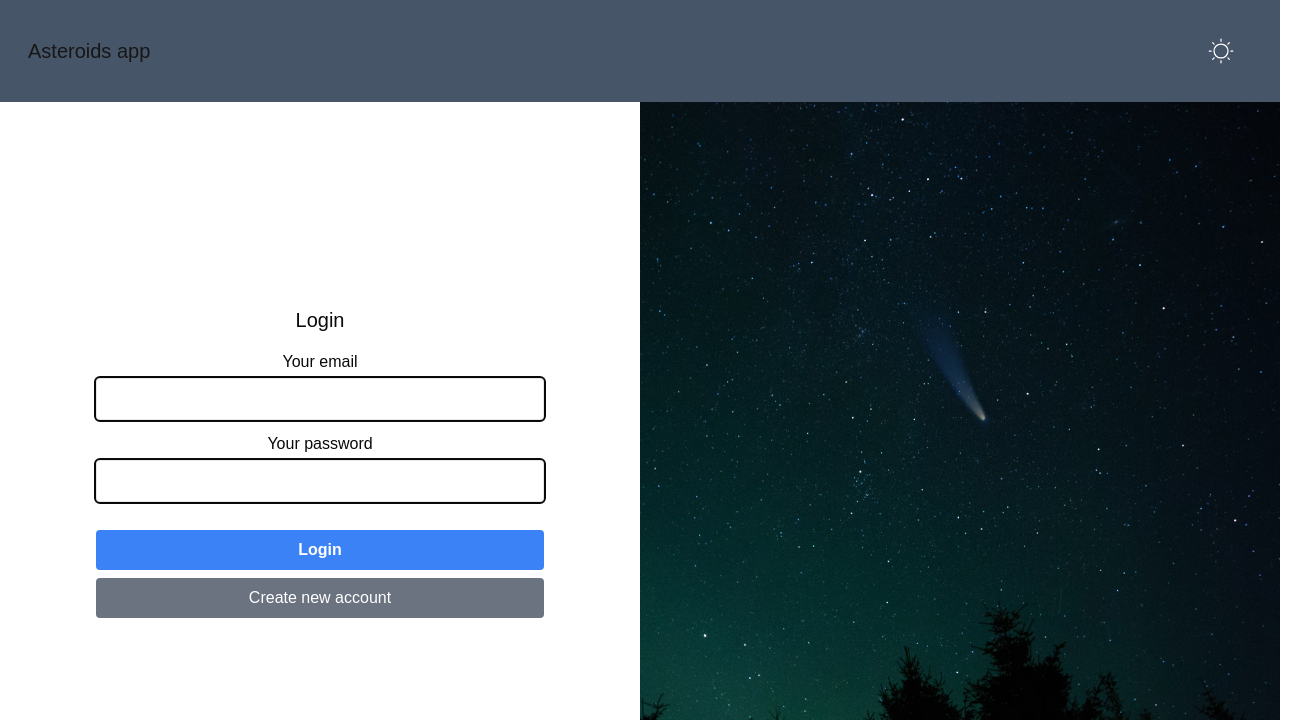
template spec › the user is not created show an error message
Type "test3333@gmail.com" into the field with test id "email-input" at x=320, y=399, box [96,378,544,420]
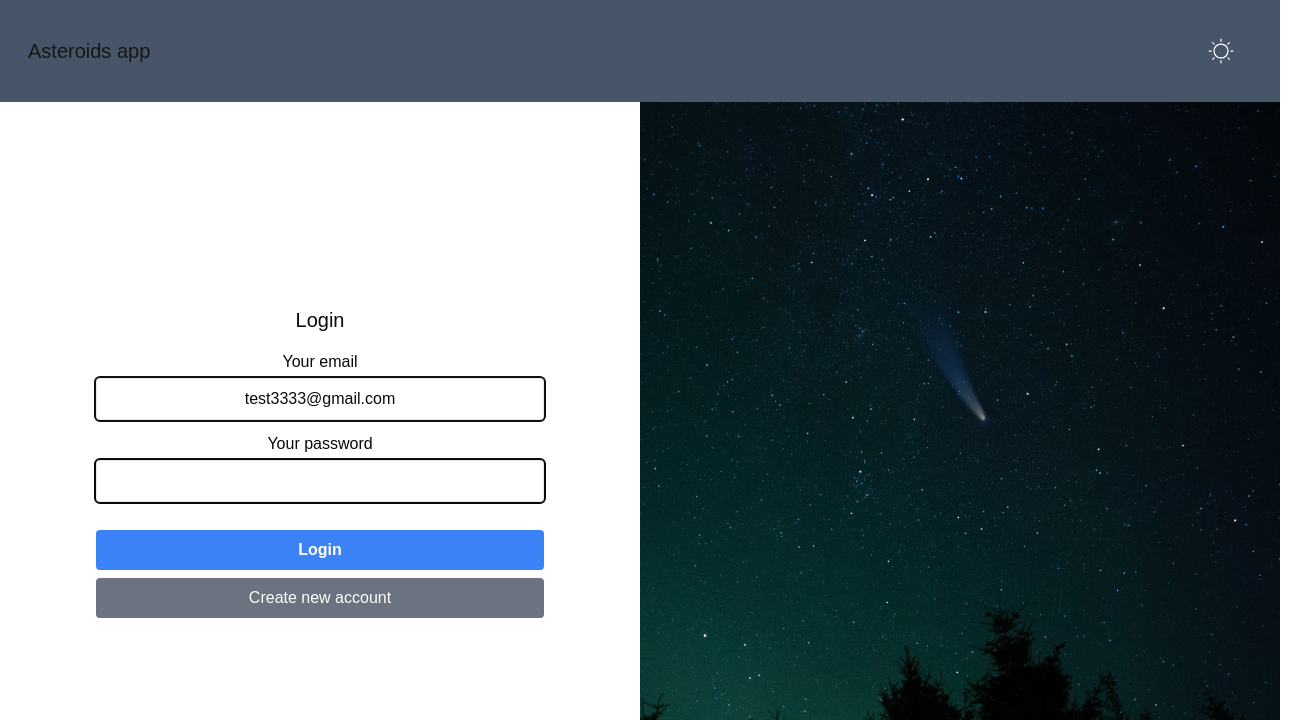
Type "password123" into the password field with test id "password-input" at x=320, y=481, box [96,460,544,502]
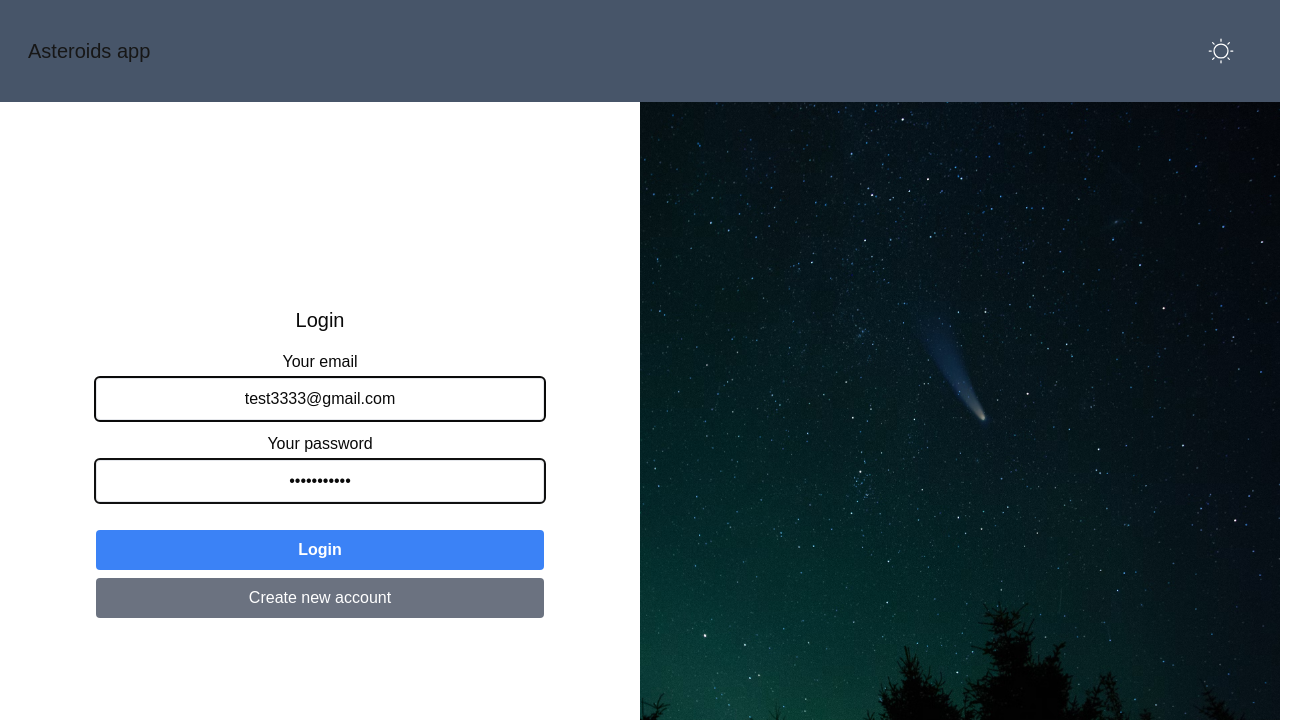
Click the button with test id "button-switch" at x=320, y=550, box [96,530,544,570]
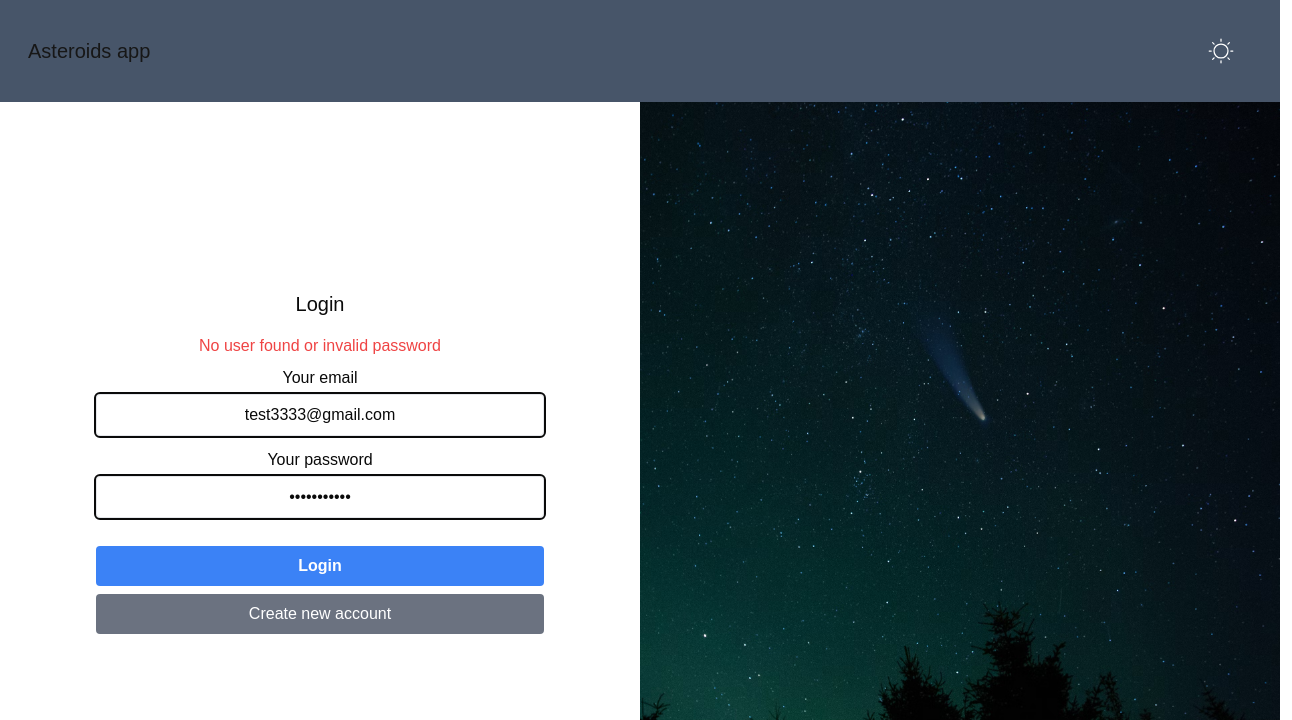
Check: the text "No user found or invalid password" is shown, box [199,334,441,358]
